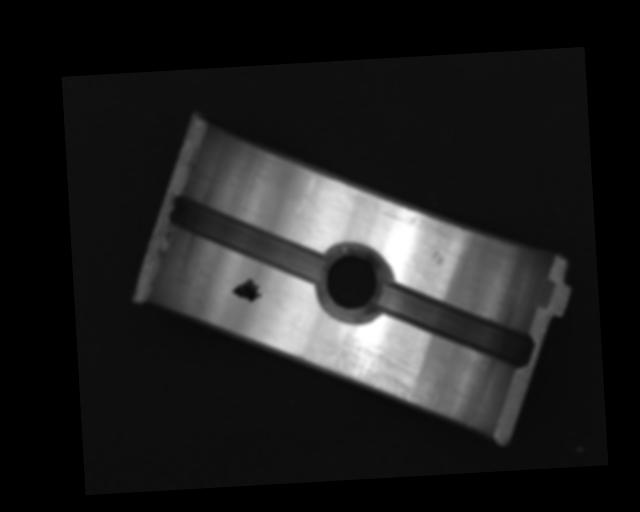blot: (230, 276, 263, 304)
bruise: (428, 249, 445, 267)
gap: (169, 189, 324, 290), (379, 279, 533, 374)
hole: (318, 242, 390, 325)
nick: (287, 176, 318, 224)
scratch: (307, 328, 436, 418)
